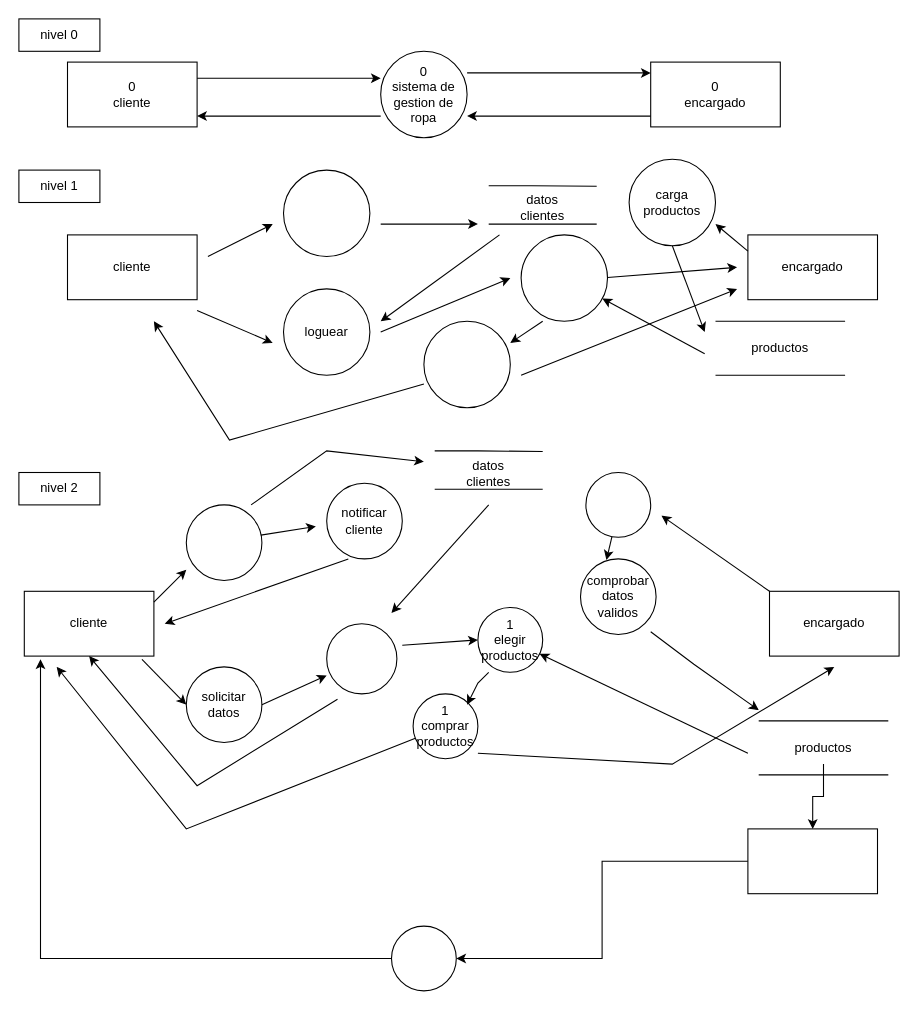
This 918x1010 diagram has some shape labels left out. The shapes that lost their labels are listed below. From the top down, each one's centre as x and y in pixels, then its label:
the point at 326,212: registrar clientes
the point at 564,277: elegir productos
the point at 466,364: comprar productos
the point at 618,504: solicitar datos de producto
the point at 223,542: ingresar datos del cliente
the point at 361,658: comprobar datos
the point at 812,861: envio desde la pagina
the point at 423,958: mensajeria privada
